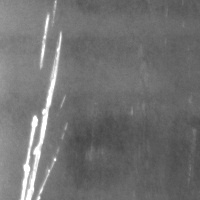scratches: (19, 29, 68, 199), (35, 0, 58, 79)
